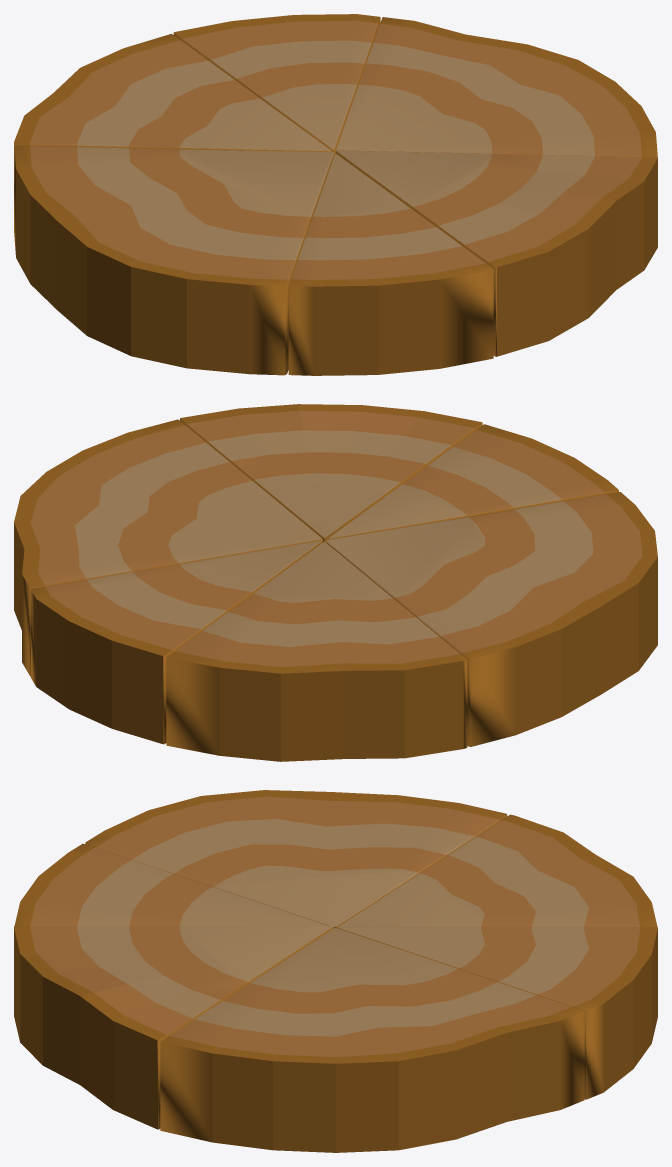
The model's file is WoodExlouer.fbx.
3 views of the same model, one above another, from view 1: azimuth 30°, elevation 25°; view 2: azimuth 150°, elevation 25°; view 3: azimuth 270°, elevation 25° (orthographic).
Visible parts, largest first — view 1: Cylinder.004, Cylinder.006, Cylinder.005, Cylinder.001, Cylinder.003, Cylinder.002; view 2: Cylinder.004, Cylinder.003, Cylinder.001, Cylinder.002, Cylinder.006, Cylinder.005; view 3: Cylinder.001, Cylinder.006, Cylinder.004, Cylinder.002, Cylinder.003, Cylinder.005.
Boxes of the visible parts, x1=… form: Cylinder.004: x1=14, y1=145, x2=334, y2=375; Cylinder.006: x1=335, y1=150, x2=657, y2=356; Cylinder.005: x1=288, y1=153, x2=493, y2=375; Cylinder.001: x1=336, y1=17, x2=657, y2=157; Cylinder.003: x1=14, y1=34, x2=331, y2=232; Cylinder.002: x1=173, y1=14, x2=380, y2=154; Cylinder.004: x1=326, y1=492, x2=657, y2=746; Cylinder.003: x1=166, y1=541, x2=467, y2=761; Cylinder.001: x1=14, y1=419, x2=322, y2=676; Cylinder.002: x1=30, y1=540, x2=322, y2=744; Cylinder.006: x1=180, y1=404, x2=482, y2=542; Cylinder.005: x1=327, y1=424, x2=618, y2=539; Cylinder.001: x1=160, y1=927, x2=584, y2=1152; Cylinder.006: x1=14, y1=926, x2=333, y2=1129; Cylinder.004: x1=85, y1=790, x2=507, y2=927; Cylinder.002: x1=337, y1=927, x2=657, y2=1099; Cylinder.003: x1=338, y1=814, x2=657, y2=927; Cylinder.005: x1=14, y1=843, x2=328, y2=926.
Bounding box in the file's own units: 130 × 21.17 × 129.
